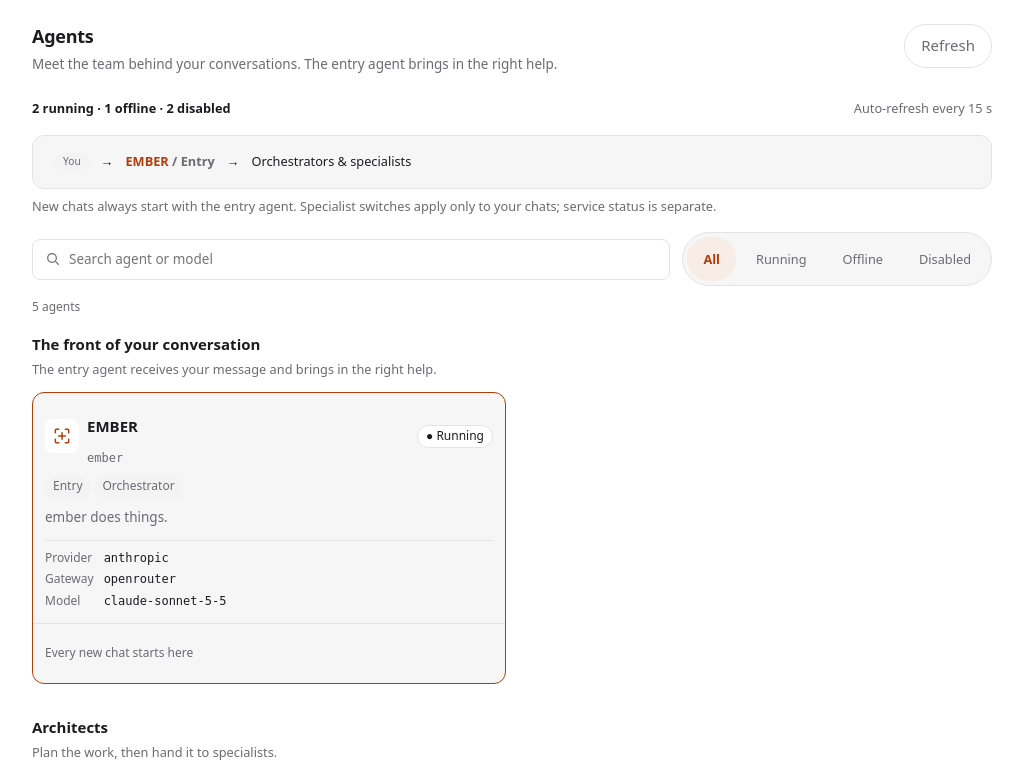
Test: AgentsView › groups architects separately and keeps search and status filters working
Expected: the element with class "agent-group" shows "Plan the work, then hand it to specialists.", top-left (32, 743), bottom-right (277, 761)
Expected: the element with class "agent-group" does not show "code-architect"
Type "code-architect" into the search field with placeholder "Search agent or model". click: (363, 259)
box: top-left (69, 249), bottom-right (657, 270)
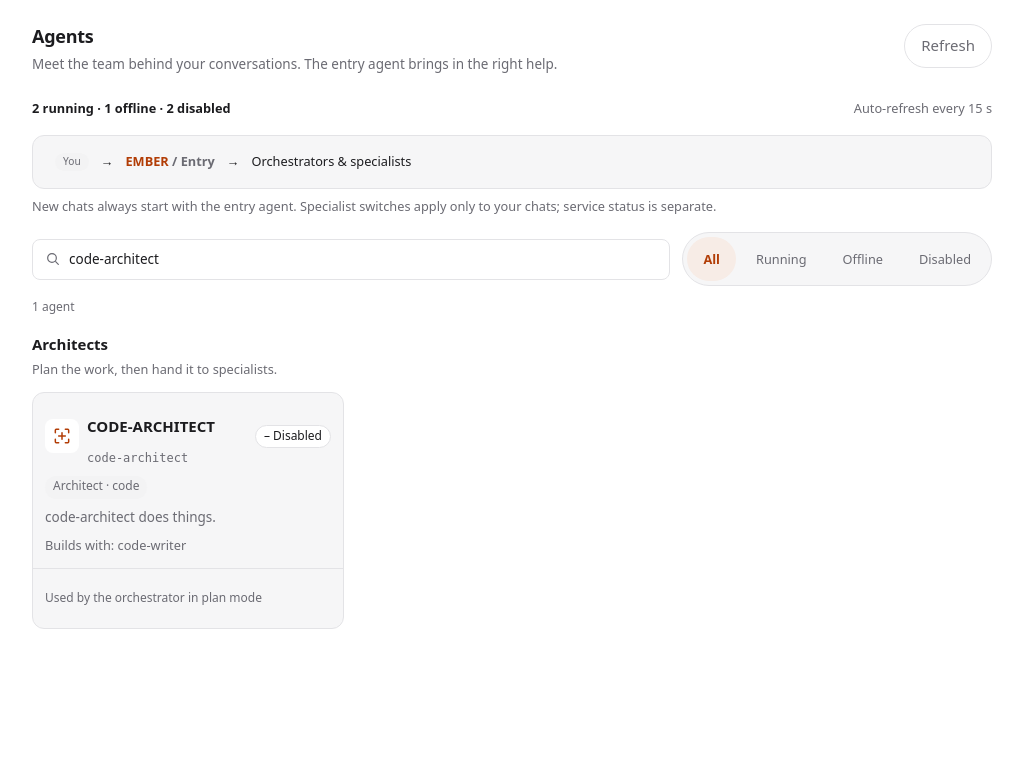
Replace the text in the search field named "Search agents" with "code-writer". click: (363, 259)
box: top-left (69, 249), bottom-right (657, 270)
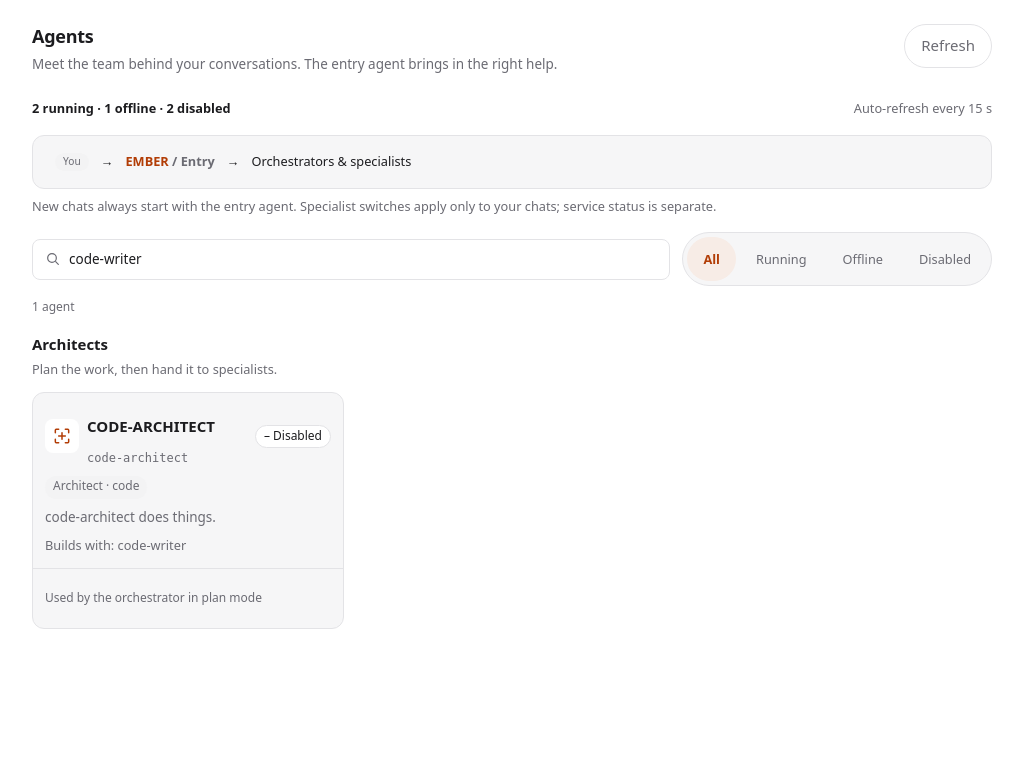
Replace the text in the search field named "Search agents" with "architect". click: (363, 259)
box: top-left (69, 249), bottom-right (657, 270)
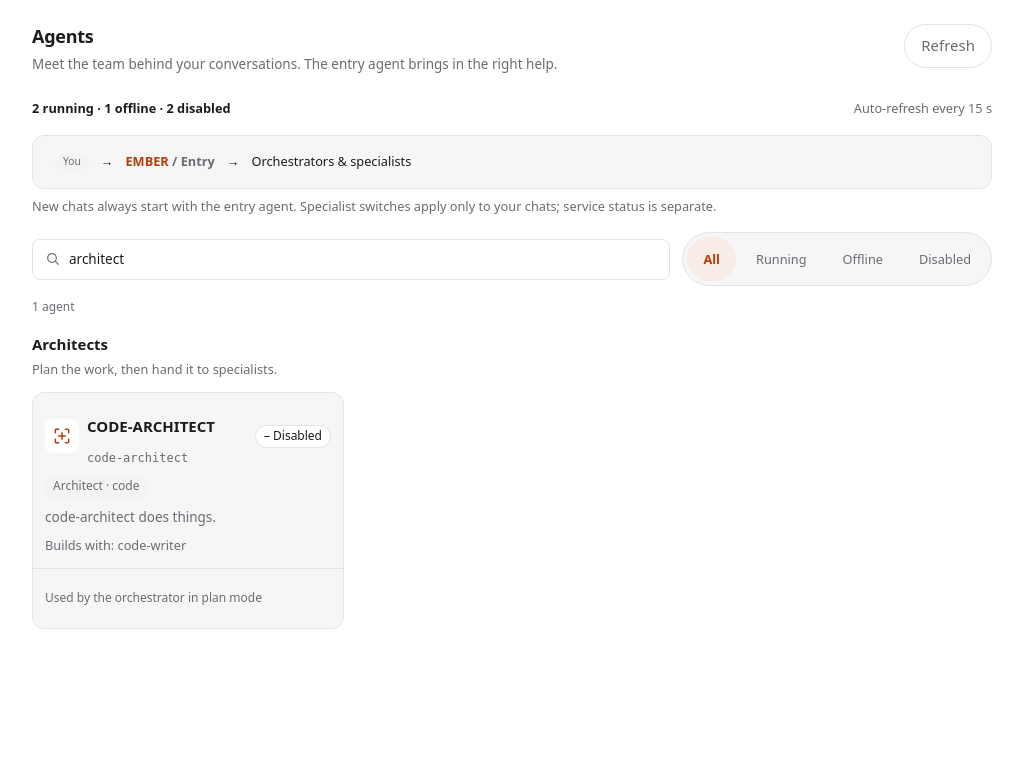
Click the button "Running". click: (781, 260)
box: top-left (740, 238), bottom-right (823, 282)
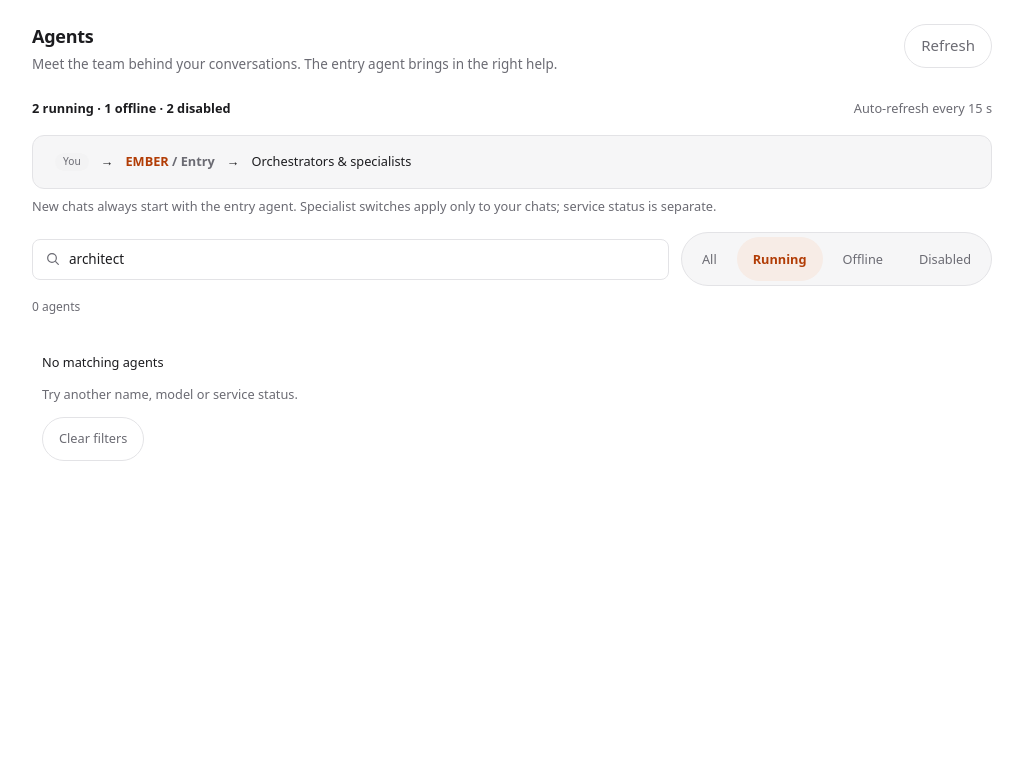
Expected: no elements with class "agent-card" are shown
Click the button "Disabled". click: (945, 260)
box: top-left (903, 238), bottom-right (987, 282)
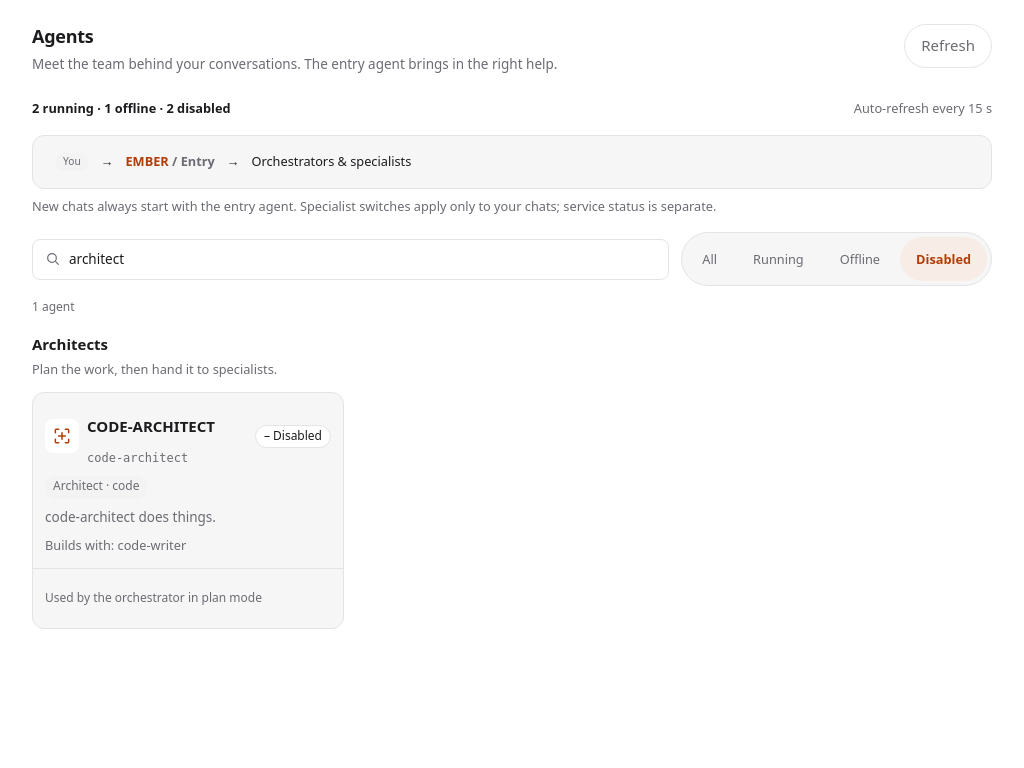
Expected: the number of elements with class "agent-card" is 1, top-left (32, 392), bottom-right (344, 629)
